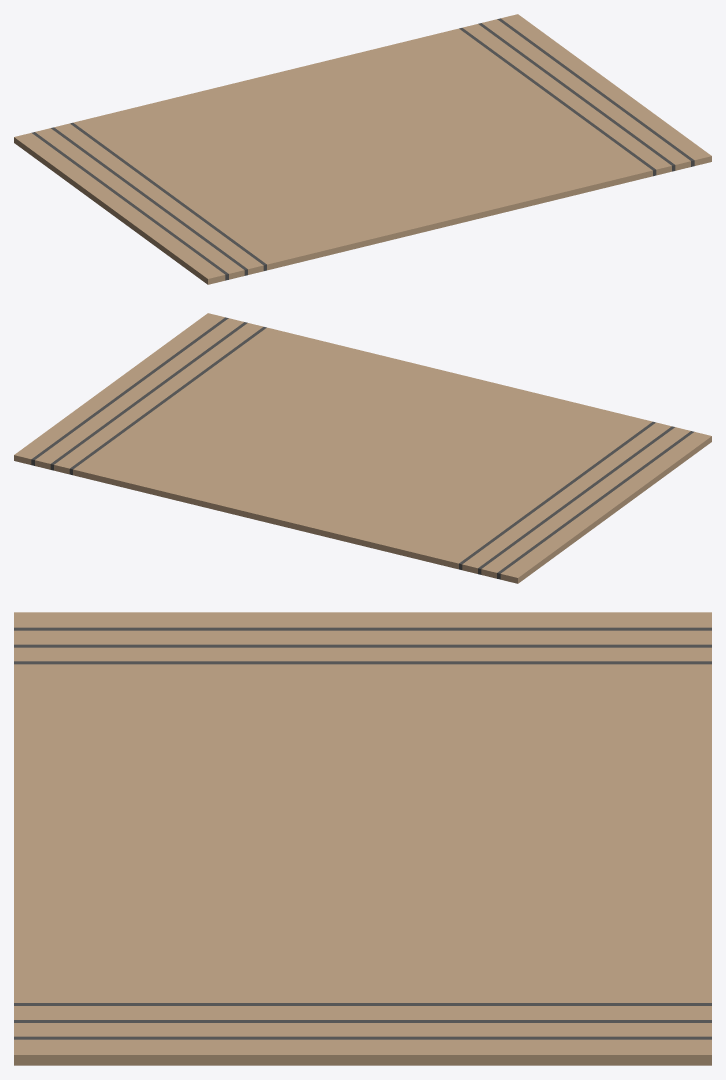
File: Carpet5_C1.fbx
3 views of the same model, one above another, from view 1: azimuth 30°, elevation 25°; view 2: azimuth 150°, elevation 25°; view 3: azimuth 270°, elevation 25° (orthographic). The views are drawn at different scales.
Visible parts, largest first — view 1: Carpet5_C1; view 2: Carpet5_C1; view 3: Carpet5_C1.
Boxes of the visible parts, left/top/right/bottom form: Carpet5_C1: left=14, top=14, right=711, bottom=284; Carpet5_C1: left=14, top=313, right=711, bottom=583; Carpet5_C1: left=14, top=612, right=711, bottom=1065.
Bounding box in the file's own units: 90 × 1 × 60.
